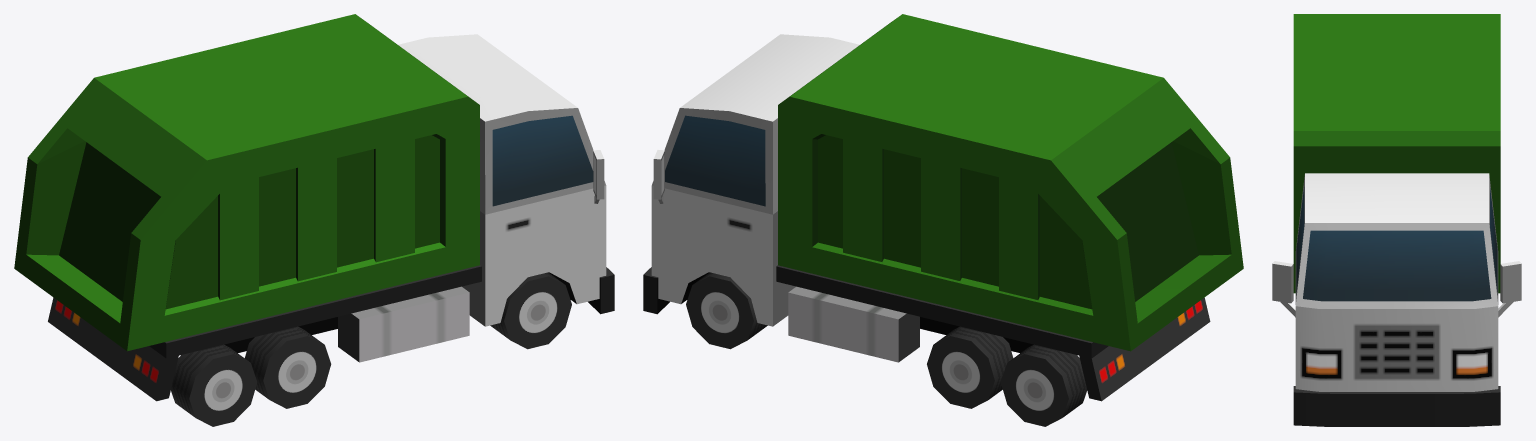
Rendered from Construction_007.glb.
3 renders of one model, left to right at view 1: azimuth 30°, elevation 25°; view 2: azimuth 150°, elevation 25°; view 3: azimuth 270°, elevation 25°, orthographic. The views are drawn at different scales.
Parts seen in each view (by area): view 1: Construction_007, wheel_5_Construction_007_Wheel_3R, wheel_3_Construction_007_Wheel_2R, wheel_1_Construction_007_Wheel_1R; view 2: Construction_007, wheel_4_Construction_007_Wheel_3L, wheel_2_Construction_007_Wheel_2L, wheel_0_Construction_007_Wheel_1L; view 3: Construction_007.
Part boxes in pixels (x1=…): Construction_007: x1=14, y1=14, x2=614, y2=401; wheel_5_Construction_007_Wheel_3R: x1=171, y1=344, x2=257, y2=426; wheel_3_Construction_007_Wheel_2R: x1=245, y1=326, x2=331, y2=408; wheel_1_Construction_007_Wheel_1R: x1=490, y1=272, x2=571, y2=349; Construction_007: x1=643, y1=14, x2=1243, y2=401; wheel_4_Construction_007_Wheel_3L: x1=1000, y1=344, x2=1087, y2=426; wheel_2_Construction_007_Wheel_2L: x1=927, y1=326, x2=1013, y2=408; wheel_0_Construction_007_Wheel_1L: x1=686, y1=272, x2=767, y2=349; Construction_007: x1=1272, y1=14, x2=1521, y2=426.
Bounding box in the file's own units: 5.02 × 2.63 × 2.41.
Materials: 1 (1 with a texture image).
